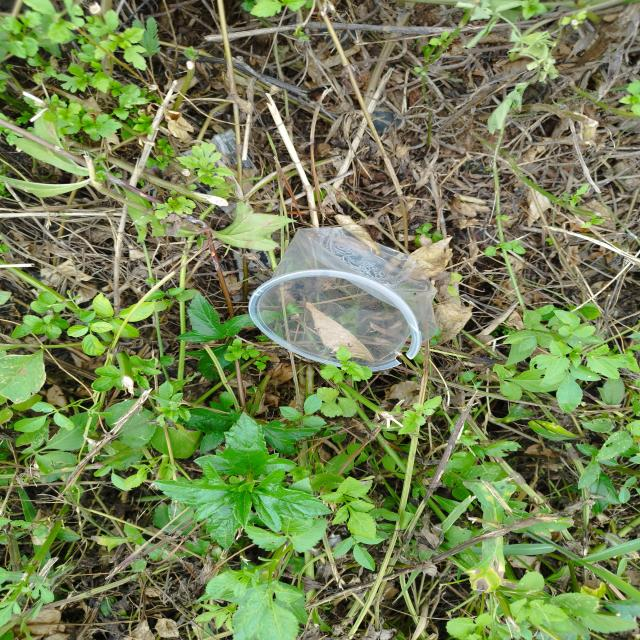plastic glass: (250, 228, 437, 370)
